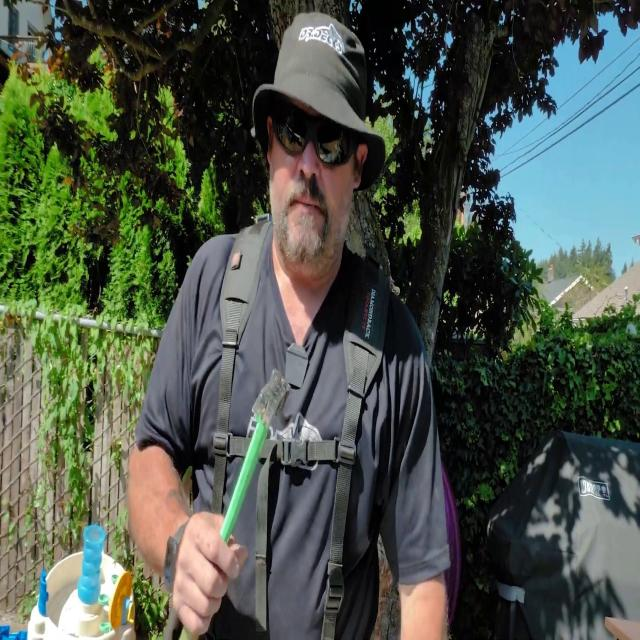hammer: (179, 366, 291, 640)
